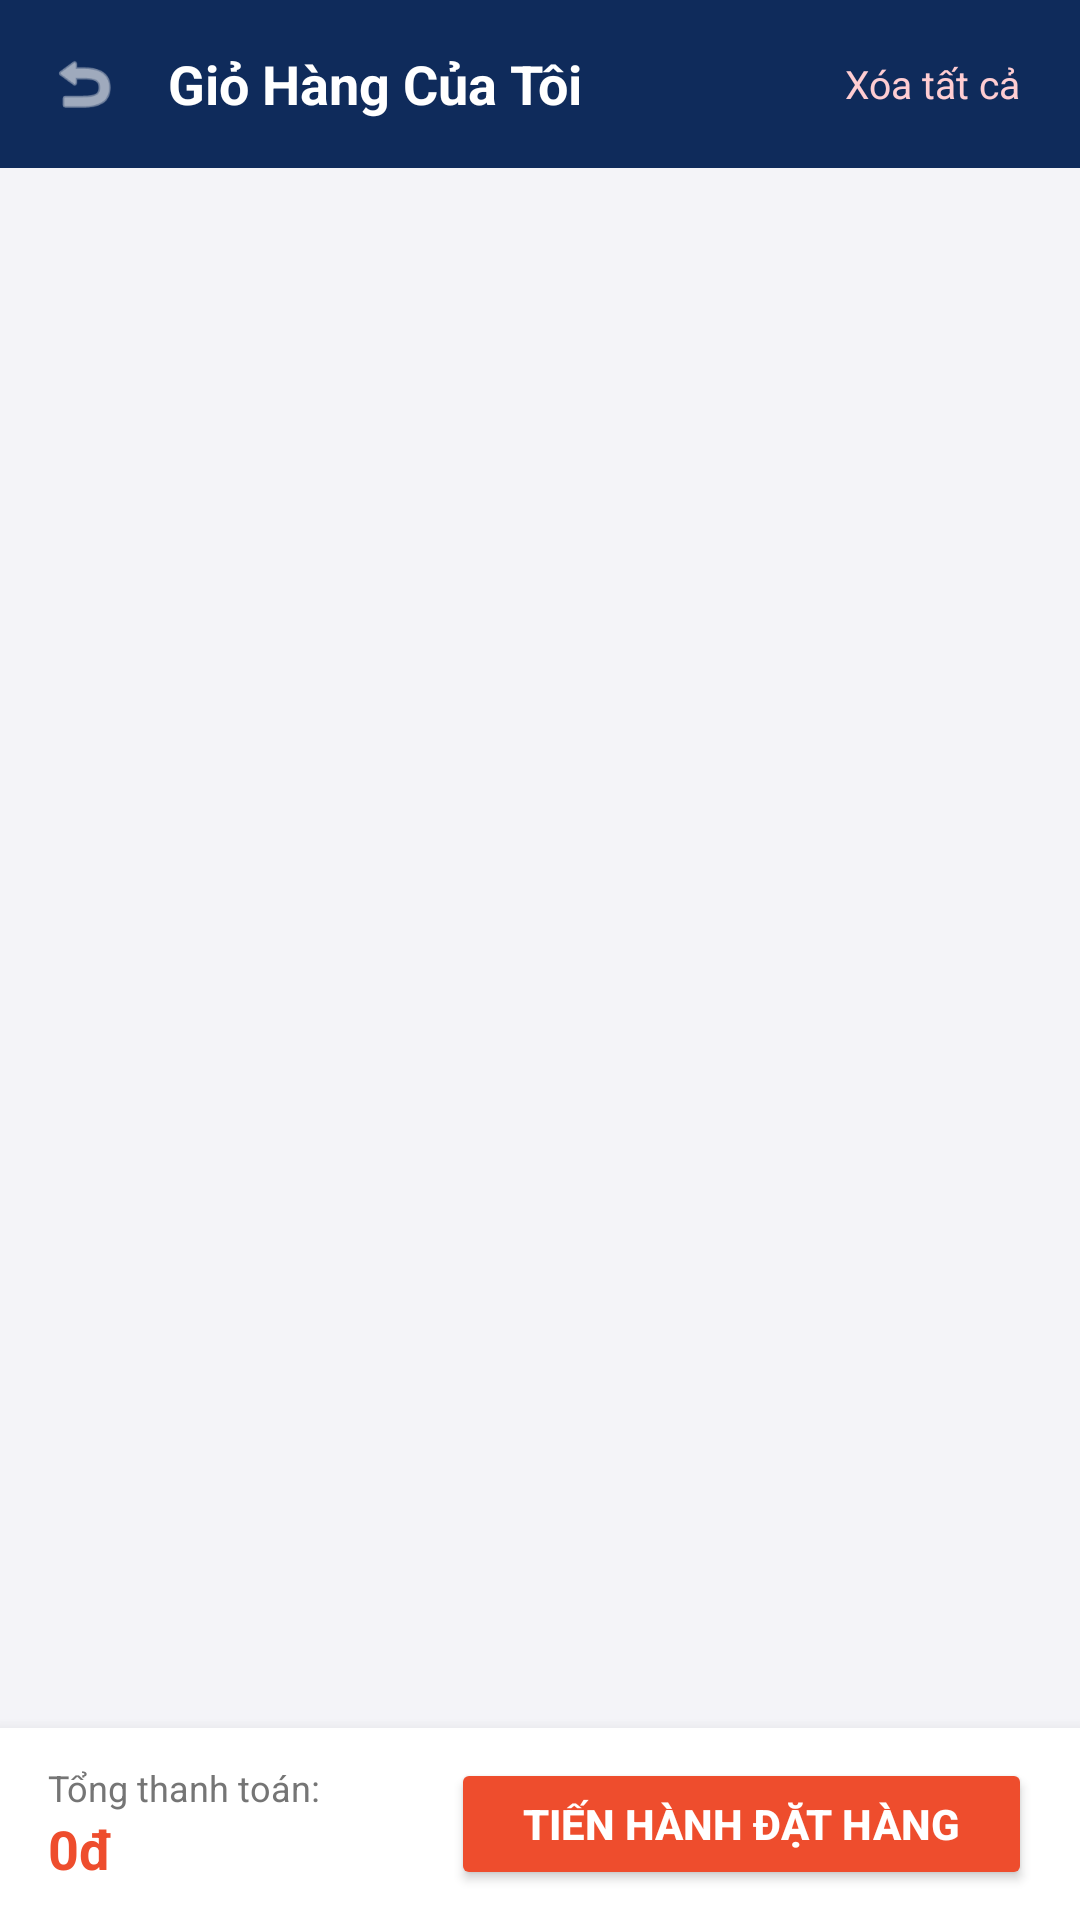

Point at icon controls on the screen. Image size 1080 × 1920, points as [x,y].
revert: [85,84]
